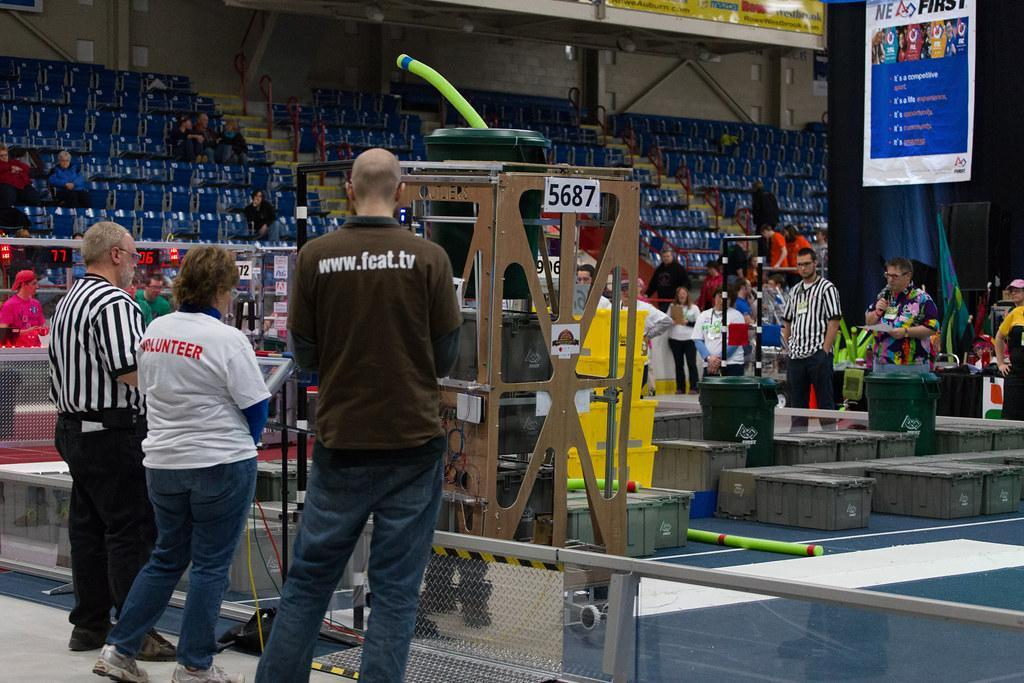robot: (284, 29, 659, 627)
